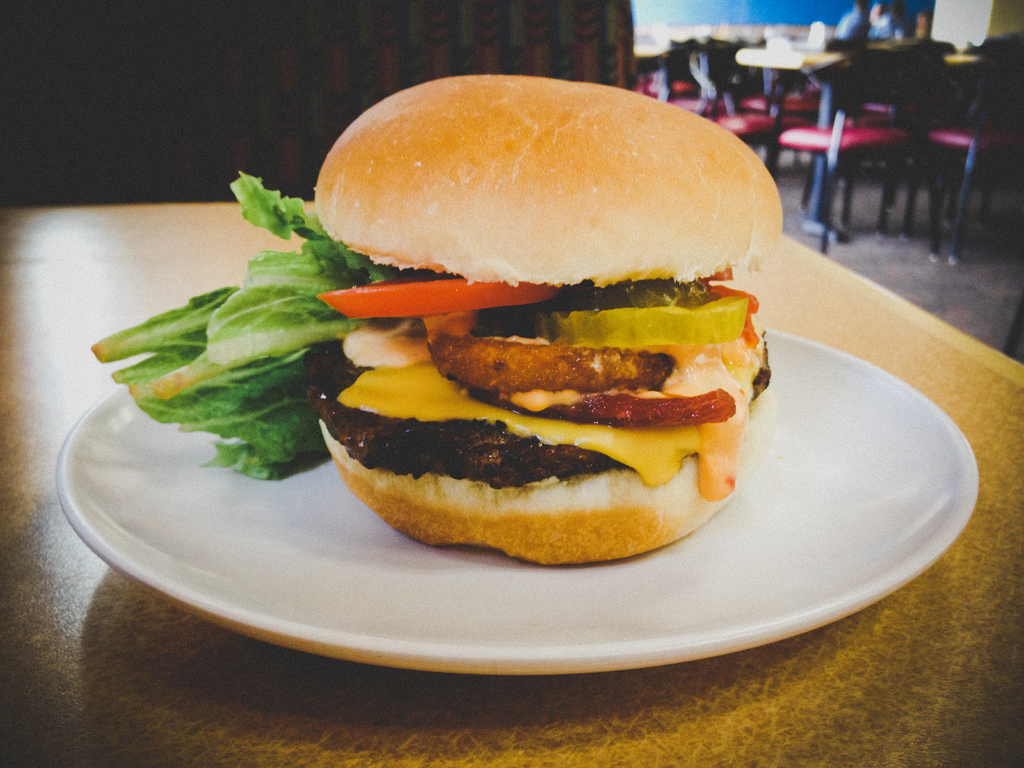Hamburger: (311, 75, 780, 570)
